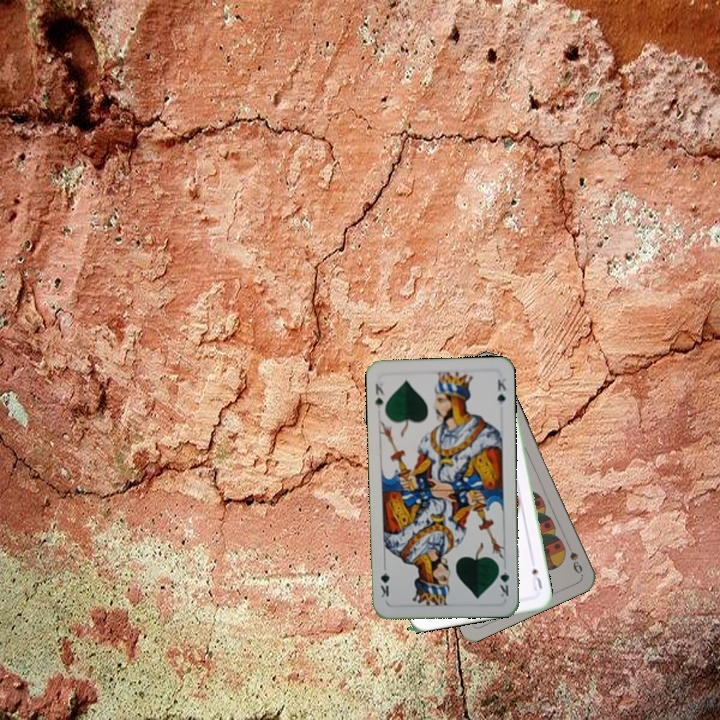GK: (495, 560, 512, 599), (371, 379, 387, 412)
S9: (562, 538, 585, 576)
SU: (528, 564, 545, 593)
